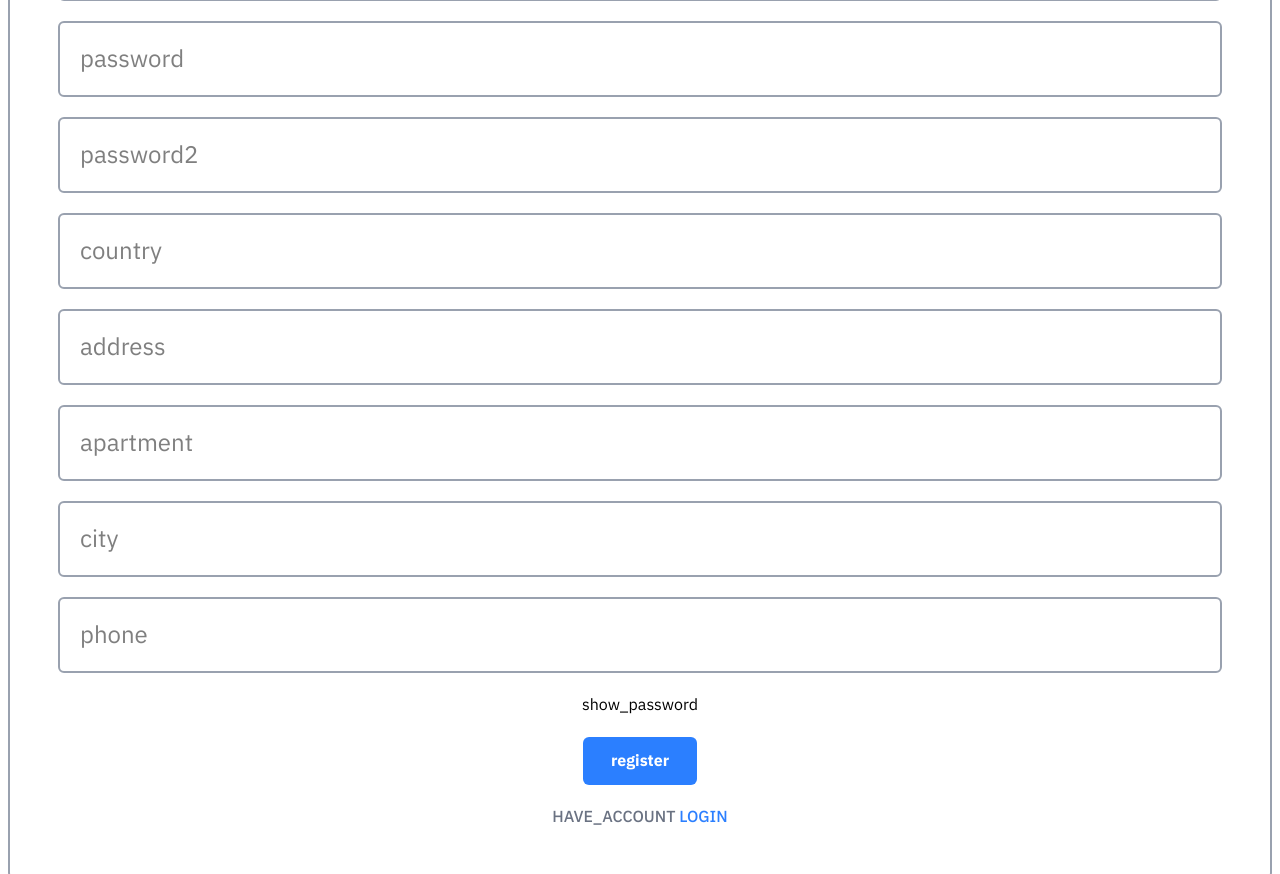
Register Component › shows error on invalid form
(page scrolled)
Step 1. Click the button "register" → (640, 761), box [583,737,697,785]
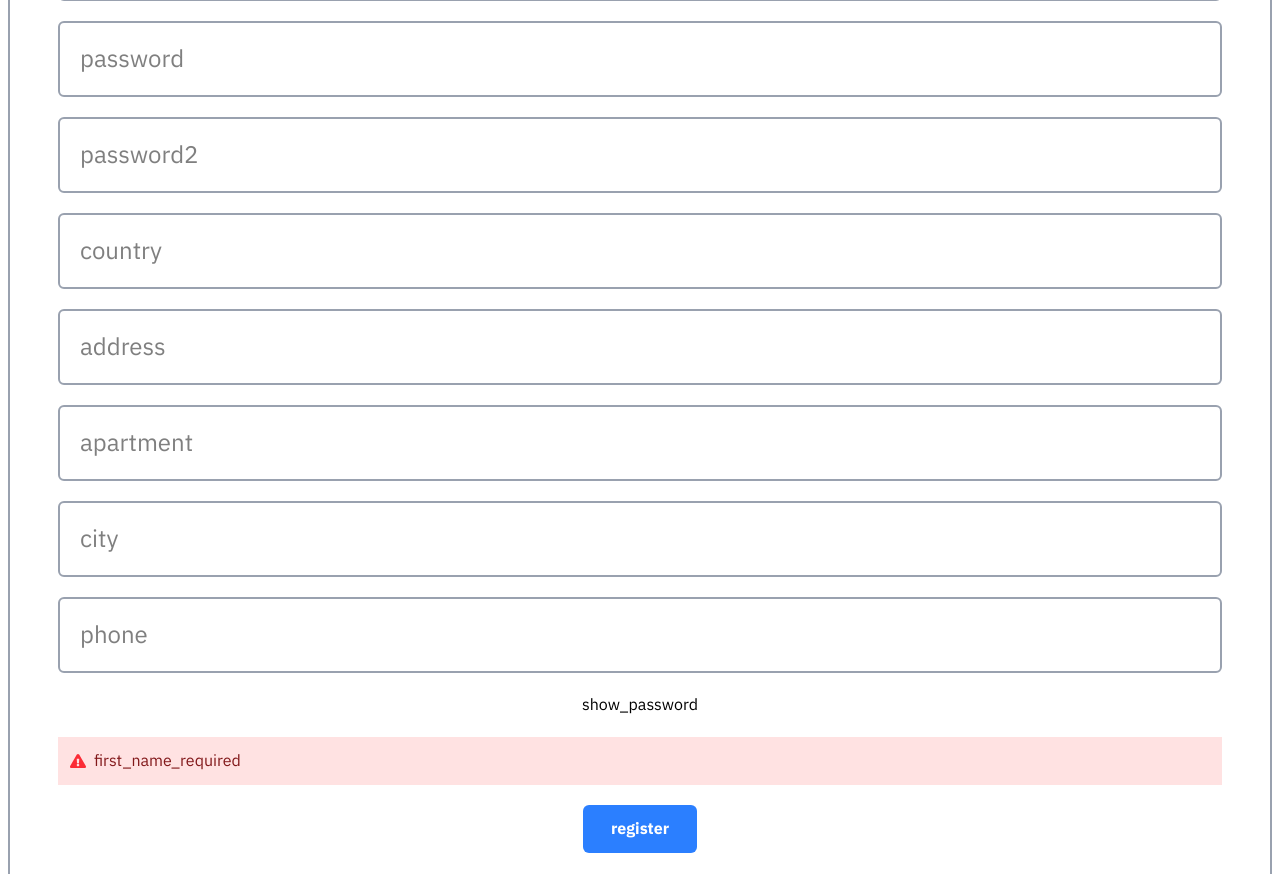
Expected: the text "first_name_required" is shown, [94,749,241,773]
